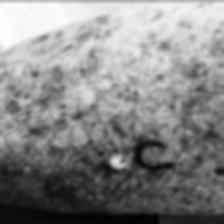Toxin: (106, 154, 124, 172), (68, 130, 81, 144)
